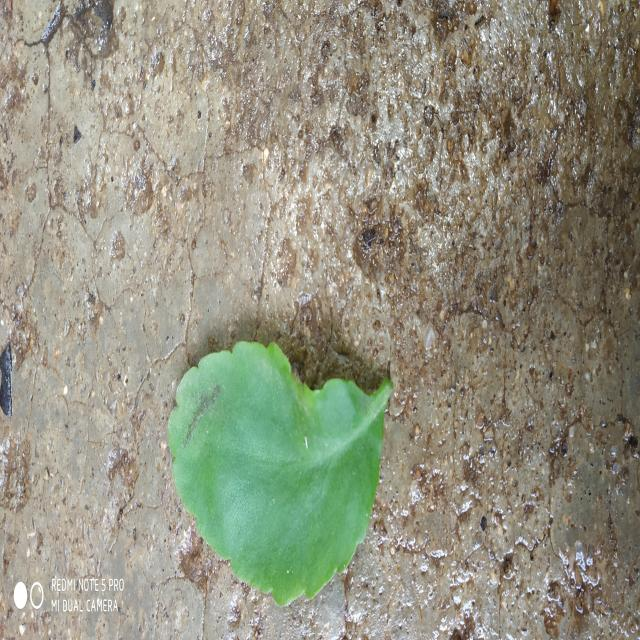defectedspinach: (169, 352, 232, 492)
spinach: (169, 342, 392, 605)
